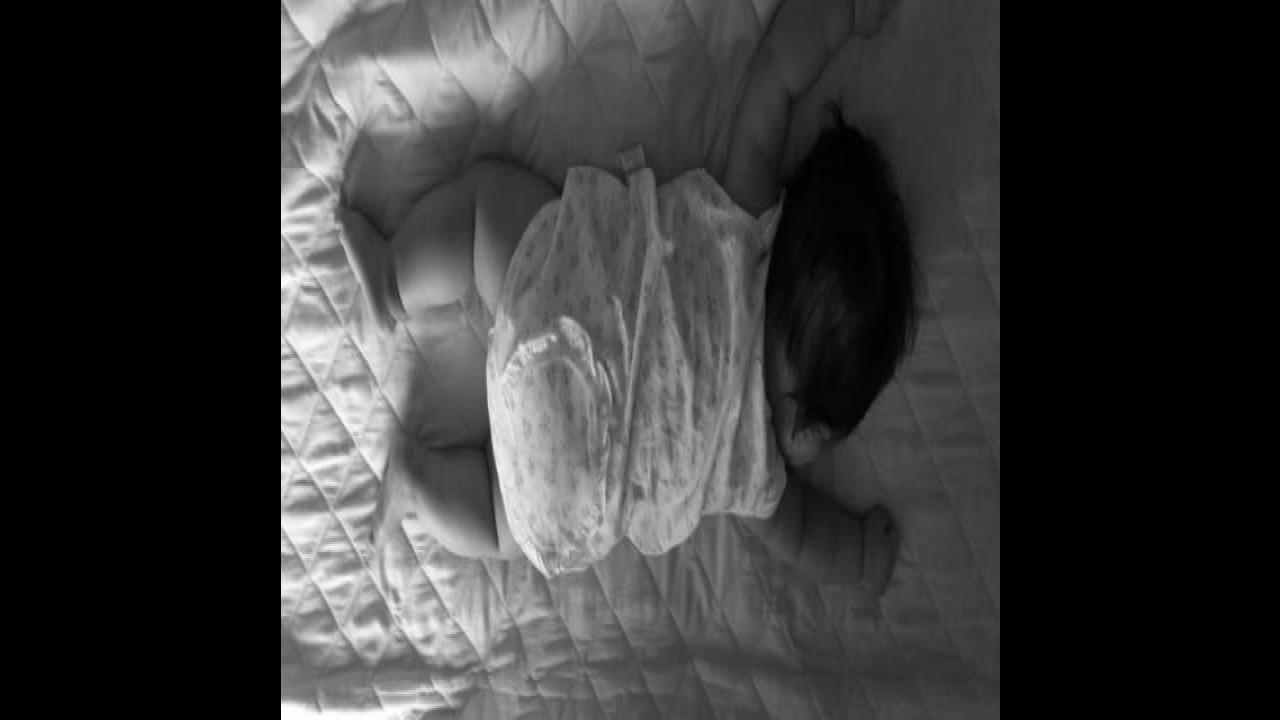hand: (854, 503, 898, 605), (847, 0, 900, 42)
